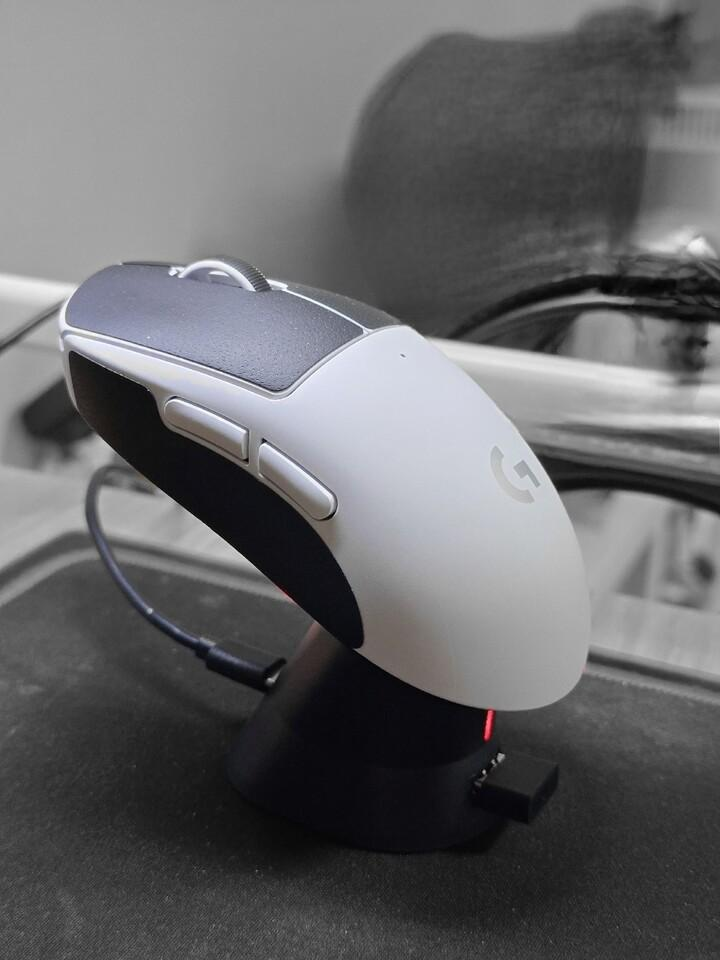mouse: (53, 253, 600, 716)
